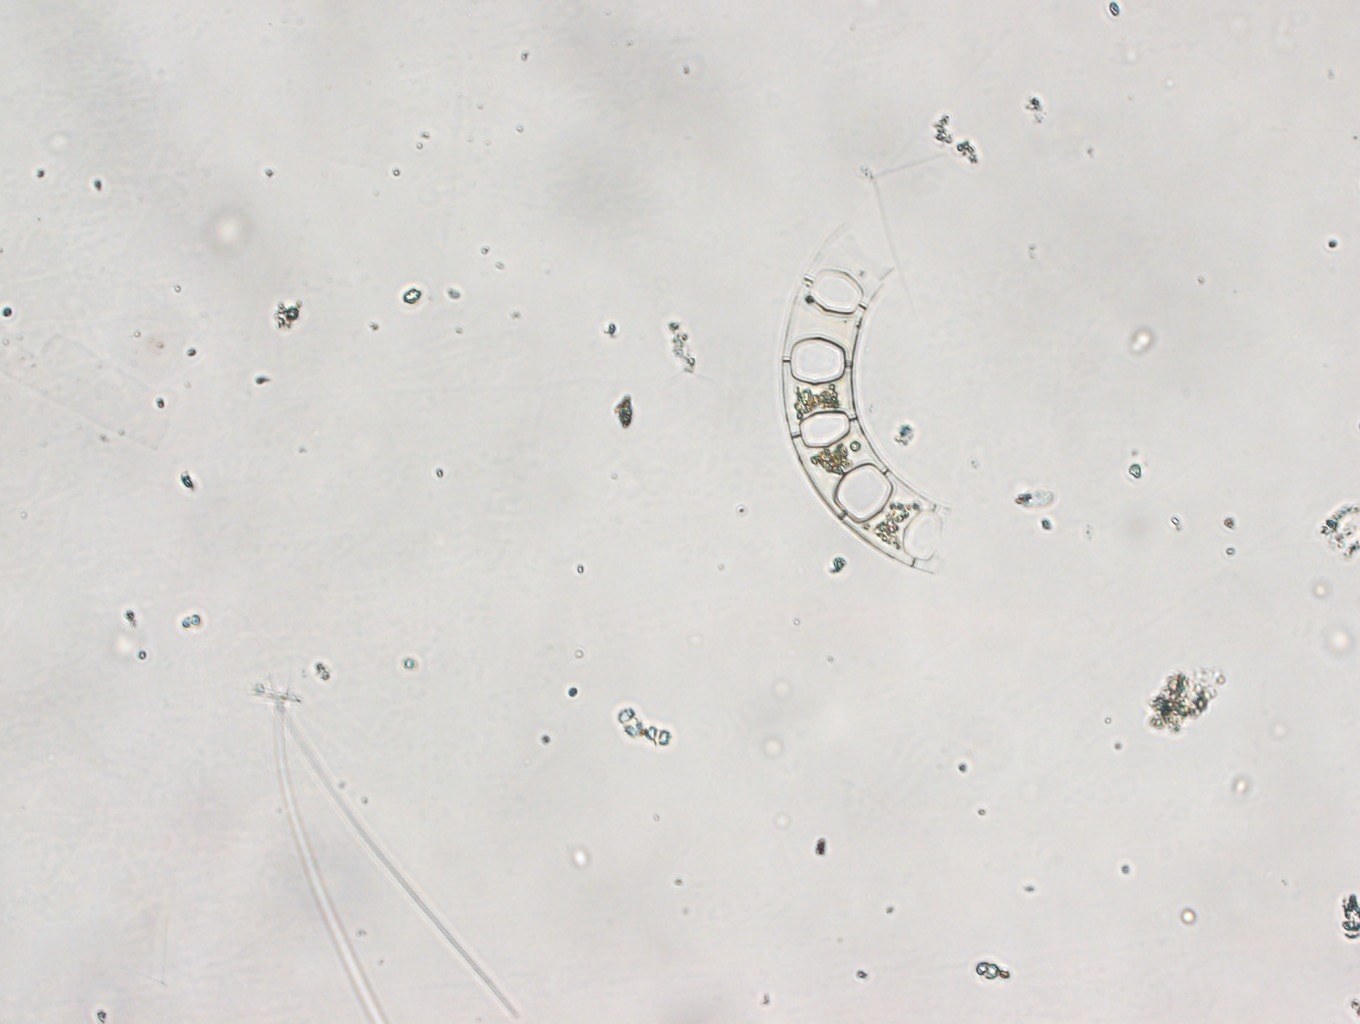eucampia: (781, 225, 953, 577)
